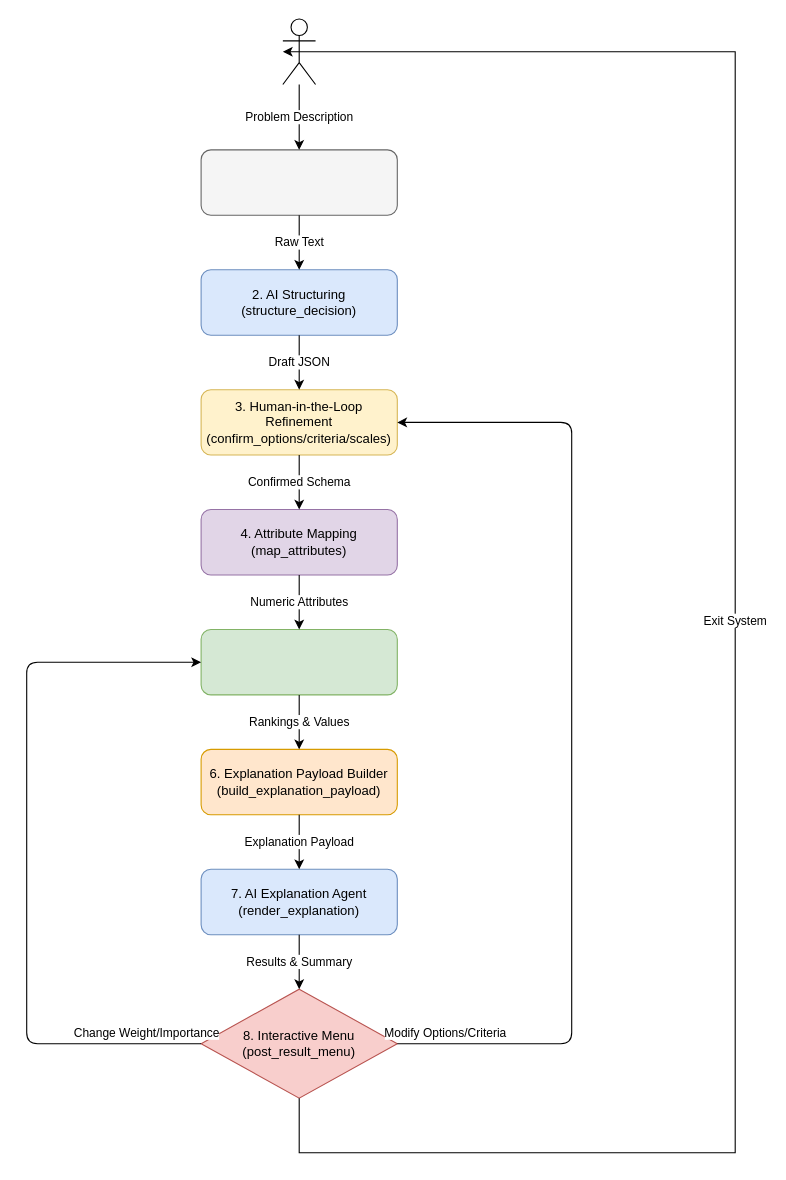
The diagram is 786 pixels wide and 1180 high, and some of its shapes have lost their labels. Here are the shapes that lost their labels. From the top down, the centre of each, then its label:
point 299,51: User
point 298,182: 1. Initial Input Gathering (get_multiline_input)
point 298,661: 5. Decision Engine (Scoring) (compute_weighted_scores)
